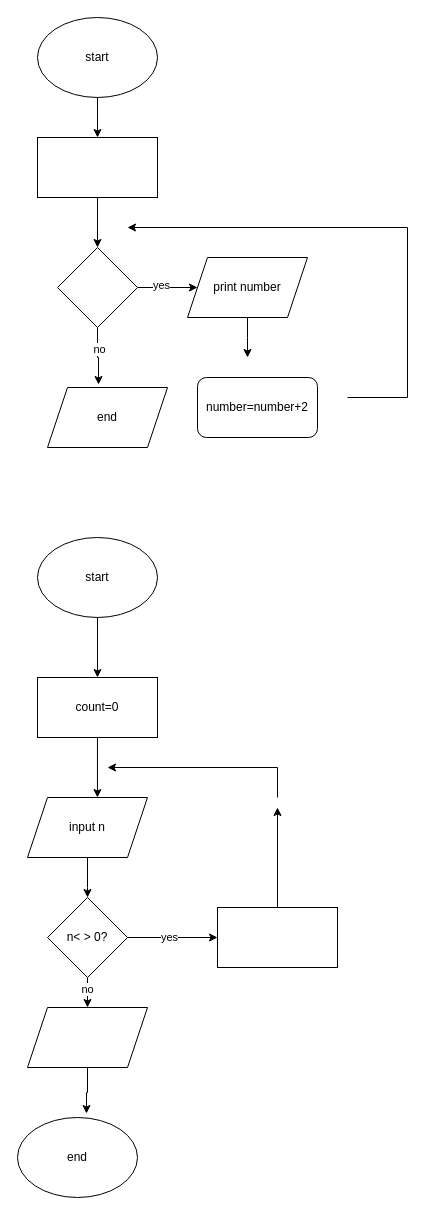
The diagram is 433 pixels wide and 1215 high, and some of its shapes have lost their labels. Each missing label, with the centre of its shape:
"count=count+1" belongs at point 277,937.
"number<=20" belongs at point 97,287.
"number=10" belongs at point 97,167.
"print count" belongs at point 87,1037.
